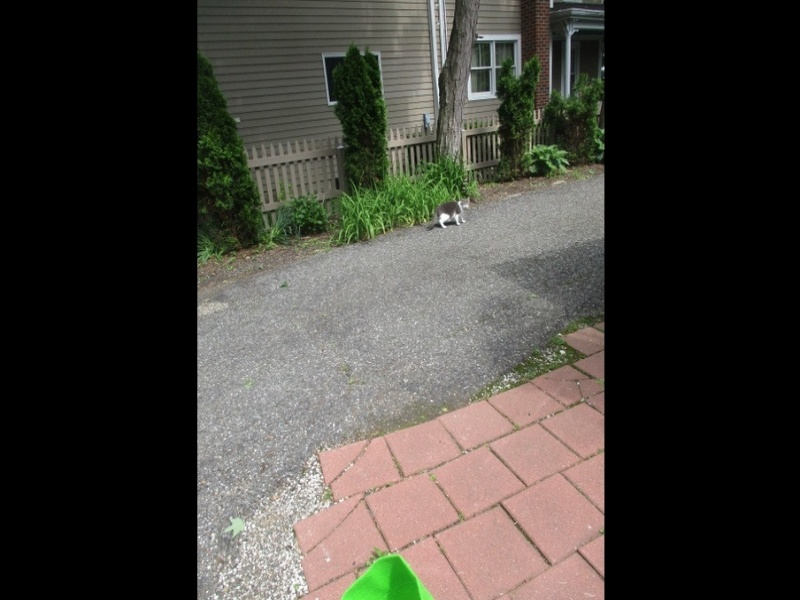cat: (423, 193, 473, 230)
